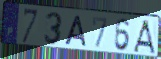3: (43, 11, 64, 47)
6: (113, 18, 131, 53)
7: (21, 7, 40, 45), (91, 16, 108, 50)
A: (132, 19, 157, 56), (63, 15, 88, 48)
